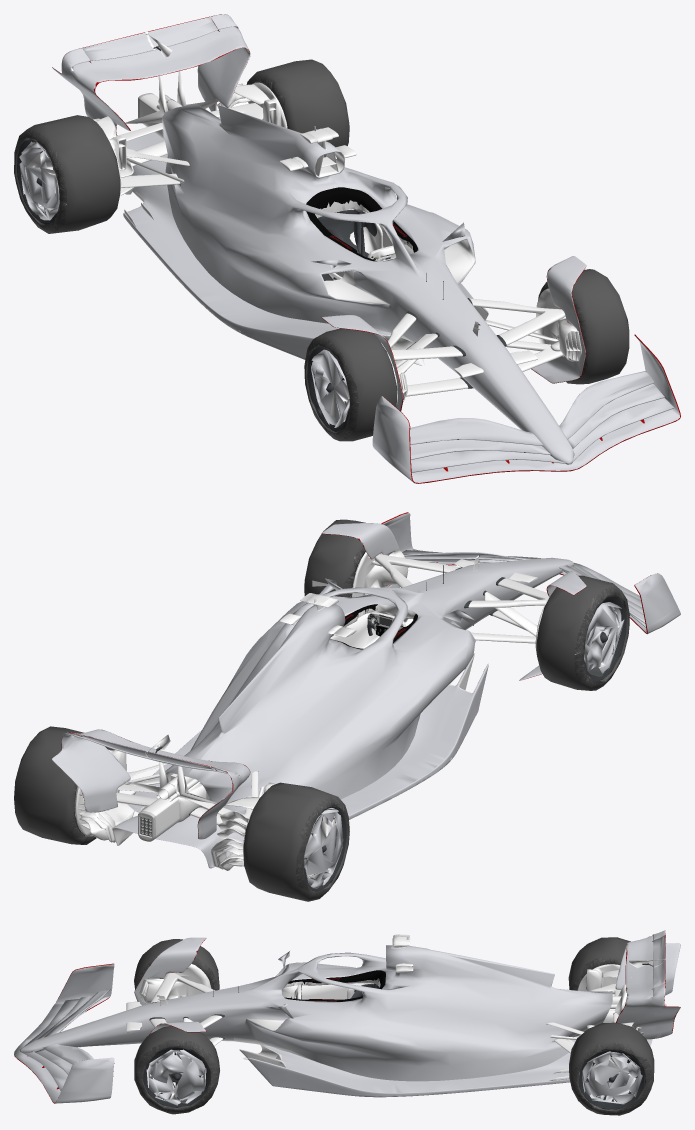
The model's file is fp04rb-showroom-mobile.glb.
3 renders of one model, top to bottom at view 1: azimuth 30°, elevation 25°; view 2: azimuth 150°, elevation 25°; view 3: azimuth 270°, elevation 25°, orthographic. The views are drawn at different scales.
Parts seen in each view (by area): view 1: body_object, front_wing_mixer, floor_rb_mixer, rear_wing_no_mod, wheel.Bk.R_object, wheel.Ft.R_object, wheel.Bk.L_object, wheel.Ft.L_object, front_inner_cover_fins.001, rear_wing_no_mod._drs, rr_wheel_cover_rear_new, cockpit_inner (+12 smaller); view 2: body_object, floor_rb_mixer, wheel.Bk.R_object, rear_wing_no_mod, wheel.Ft.R_object, wheel.Bk.L_object, front_wing_mixer, wheel.Ft.L_object, rr_wheel_cover_rear_new, fr_wheel_cover_front_new, rear_brake_duct_blades, front_inner_cover_fins.001 (+10 smaller); view 3: body_object, front_wing_mixer, floor_rb_mixer, rear_wing_no_mod, wheel.Bk.L_object, wheel.Ft.L_object, fl_wheel_cover_front_new, rl_wheel_cover_rear_new, wheel.Bk.R_object, front_inner_cover_fins, wheel.Ft.R_object, brakes_duct_front (+7 smaller).
Boxes of the visible parts, <box> form: body_object: <box>162,104,574,464</box>; front_wing_mixer: <box>372,334,680,483</box>; floor_rb_mixer: <box>123,132,488,365</box>; rear_wing_no_mod: <box>52,14,250,135</box>; wheel.Bk.R_object: <box>14,115,120,233</box>; wheel.Ft.R_object: <box>304,328,397,441</box>; wheel.Bk.L_object: <box>246,59,349,147</box>; wheel.Ft.L_object: <box>538,269,629,384</box>; front_inner_cover_fins.001: <box>531,256,586,383</box>; rear_wing_no_mod._drs: <box>82,16,217,60</box>; rr_wheel_cover_rear_new: <box>19,141,59,220</box>; cockpit_inner: <box>306,187,417,261</box>; body_object: <box>165,557,574,814</box>; floor_rb_mixer: <box>112,653,488,868</box>; wheel.Bk.R_object: <box>243,782,349,901</box>; rear_wing_no_mod: <box>52,729,250,839</box>; wheel.Ft.R_object: <box>536,575,629,690</box>; wheel.Bk.L_object: <box>14,726,114,844</box>; front_wing_mixer: <box>381,512,680,634</box>; wheel.Ft.L_object: <box>304,519,365,597</box>; rr_wheel_cover_rear_new: <box>304,808,343,888</box>; fr_wheel_cover_front_new: <box>584,602,624,676</box>; rear_brake_duct_blades: <box>210,797,259,870</box>; front_inner_cover_fins.001: <box>321,523,399,587</box>; body_object: <box>19,945,612,1081</box>; front_wing_mixer: <box>14,963,114,1103</box>; floor_rb_mixer: <box>239,1039,652,1097</box>; rear_wing_no_mod: <box>615,930,680,1039</box>; wheel.Bk.L_object: <box>569,1022,654,1115</box>; wheel.Ft.L_object: <box>134,1026,219,1114</box>; fl_wheel_cover_front_new: <box>146,1049,206,1105</box>; rl_wheel_cover_rear_new: <box>582,1051,642,1104</box>; wheel.Bk.R_object: <box>568,937,630,990</box>; front_inner_cover_fins: <box>134,937,206,1005</box>; wheel.Ft.R_object: <box>134,939,219,990</box>; brakes_duct_front: <box>139,964,211,1003</box>.
Size of the model in its own units: 2.14 by 1.18 by 5.52.
Materials: 46 (12 with a texture image).
